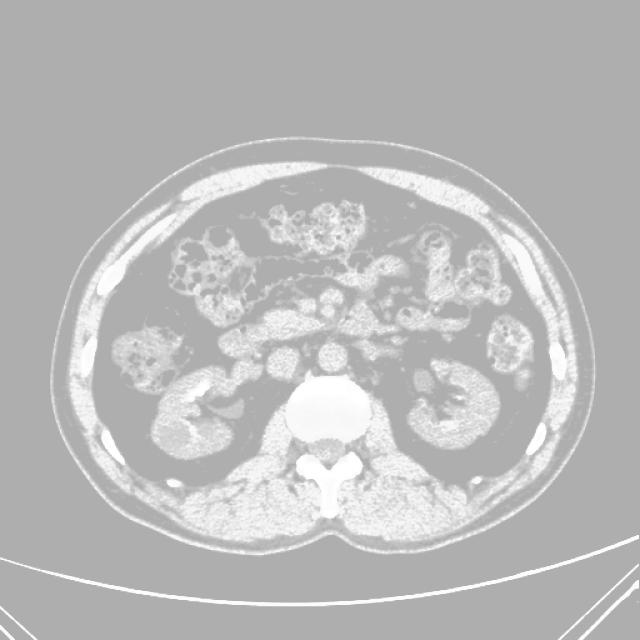STONE: (125, 291, 513, 434)
